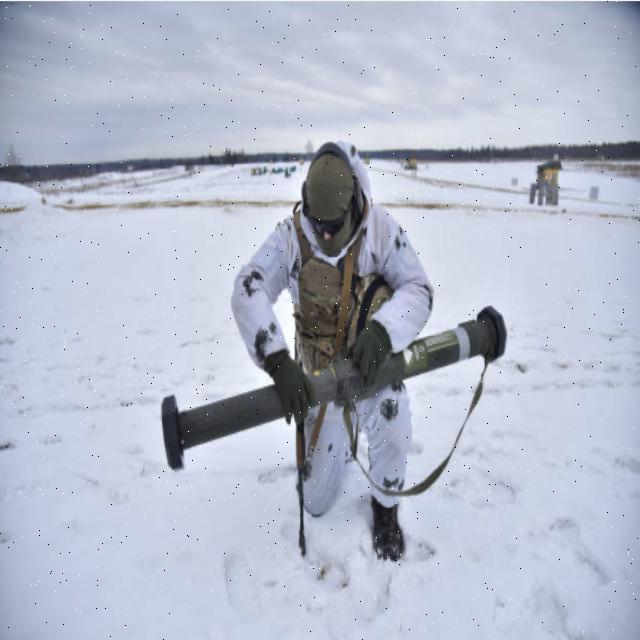bazooka: (143, 284, 532, 504)
